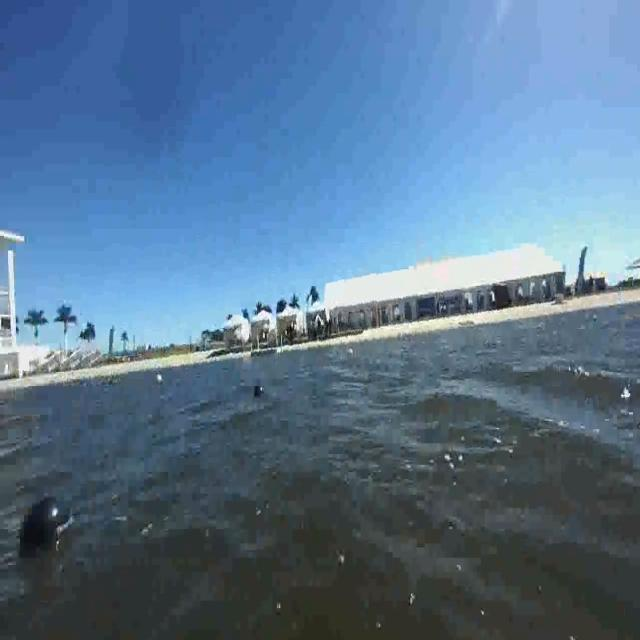black-buoy: (19, 495, 72, 564), (252, 380, 264, 397)
